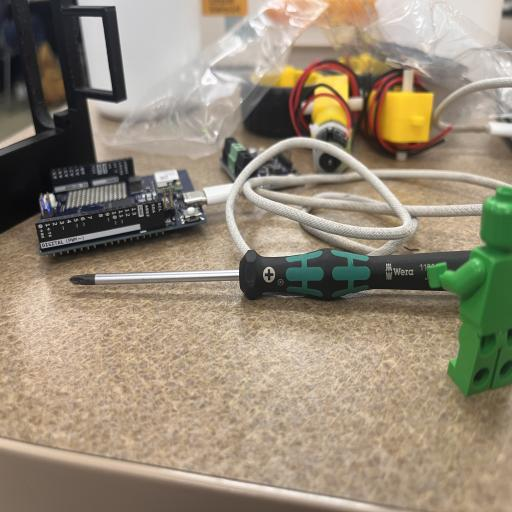Lego-Minifig: (428, 186, 512, 396)
